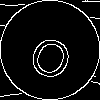O: (25, 25, 80, 83)
